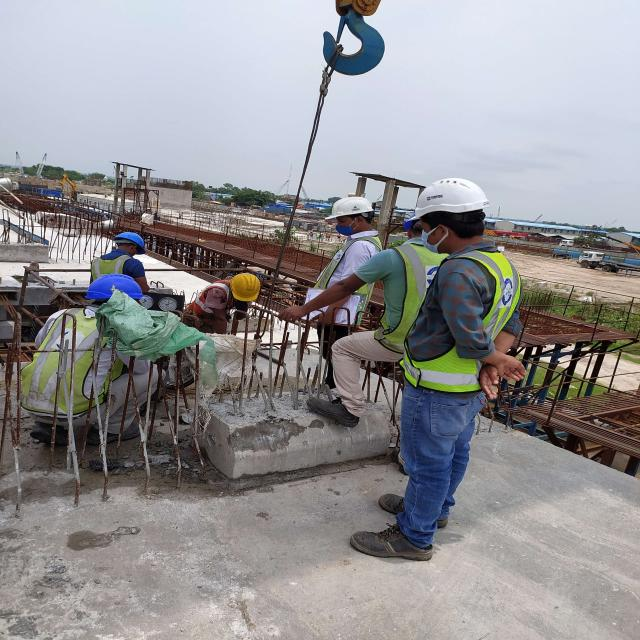Boots: (350, 526, 437, 560), (300, 388, 369, 429), (376, 489, 454, 523), (28, 418, 94, 445)
Hardhat: (404, 180, 492, 222), (86, 274, 148, 303), (320, 196, 378, 222), (226, 272, 262, 303), (114, 231, 150, 249)
Person: (396, 178, 524, 558), (17, 274, 157, 441), (313, 196, 377, 330), (183, 270, 263, 332), (87, 229, 155, 291)
Safetyvest: (398, 245, 516, 391), (20, 308, 118, 414), (398, 246, 434, 332), (188, 283, 230, 329), (91, 252, 130, 274)
